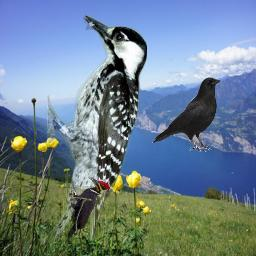Crow: (152, 76, 222, 152)
Woodpecker: (47, 13, 147, 242), (66, 177, 111, 242)
